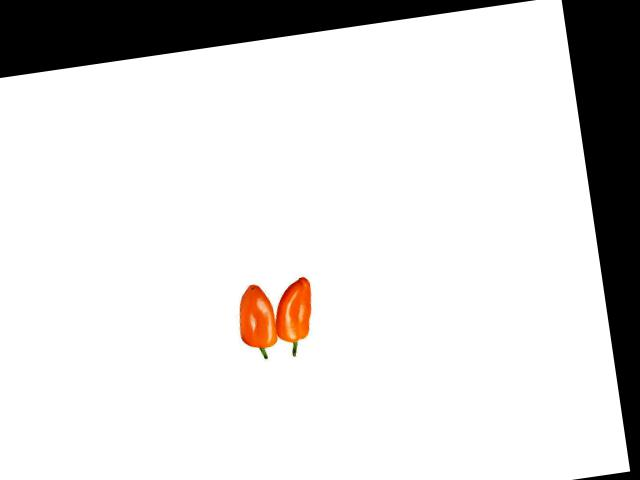bell_pepper: (223, 266, 282, 364)
